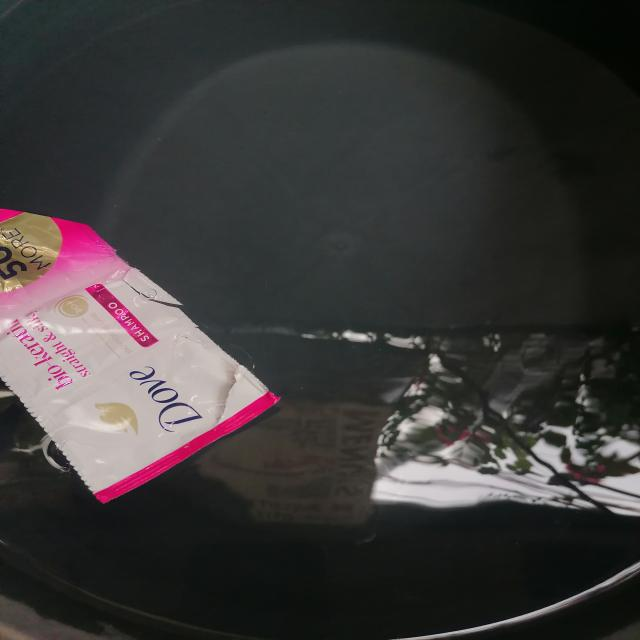Plastic Wrapper: (0, 210, 280, 503)
